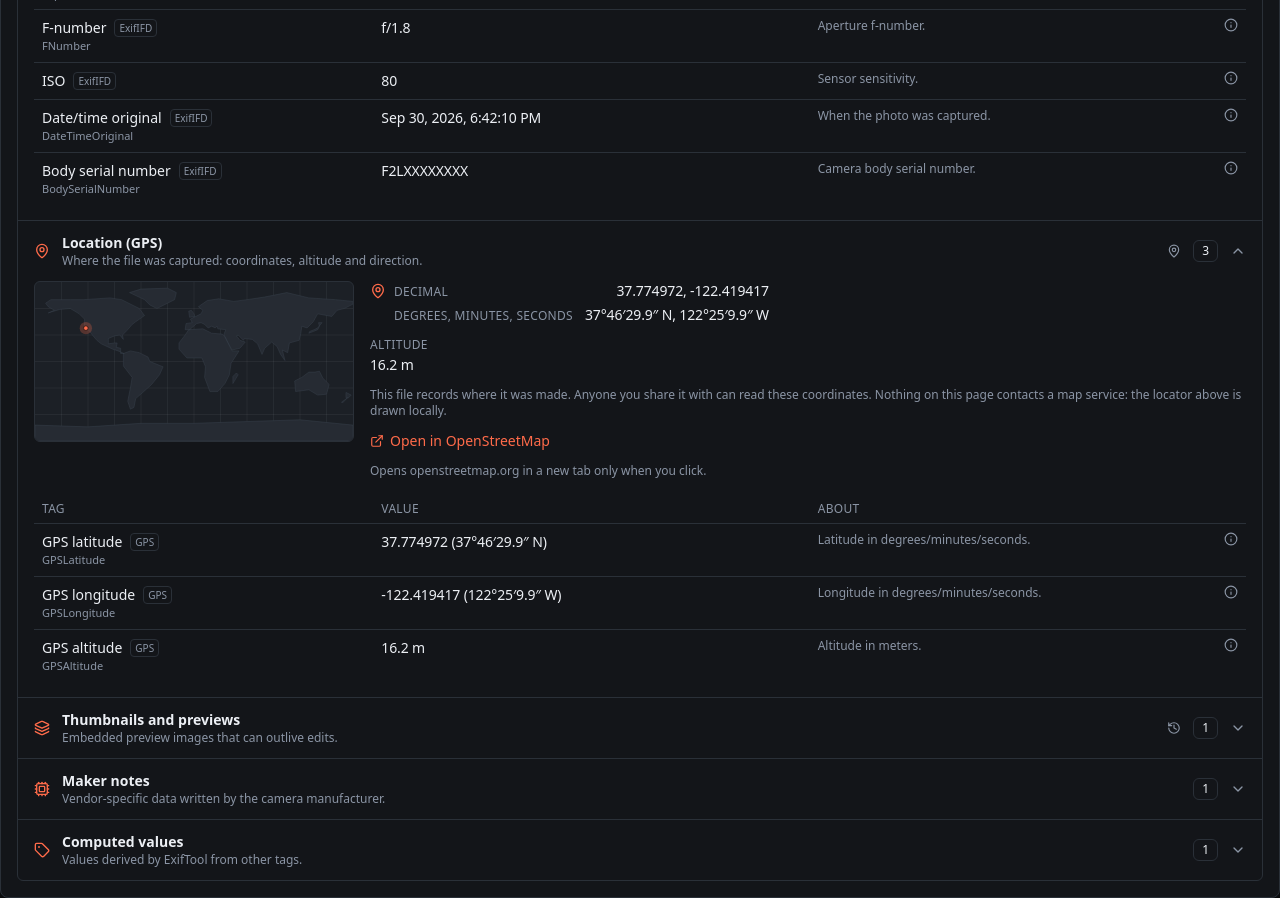
Scenario: MetadataInspector with a realistic photo › renders an unknown tag with its raw name and the undocumented fallback
(page scrolled)
Step 1. Click the button "Maker notes" → click(106, 781), box [18,759,1262,819]
(page scrolled)
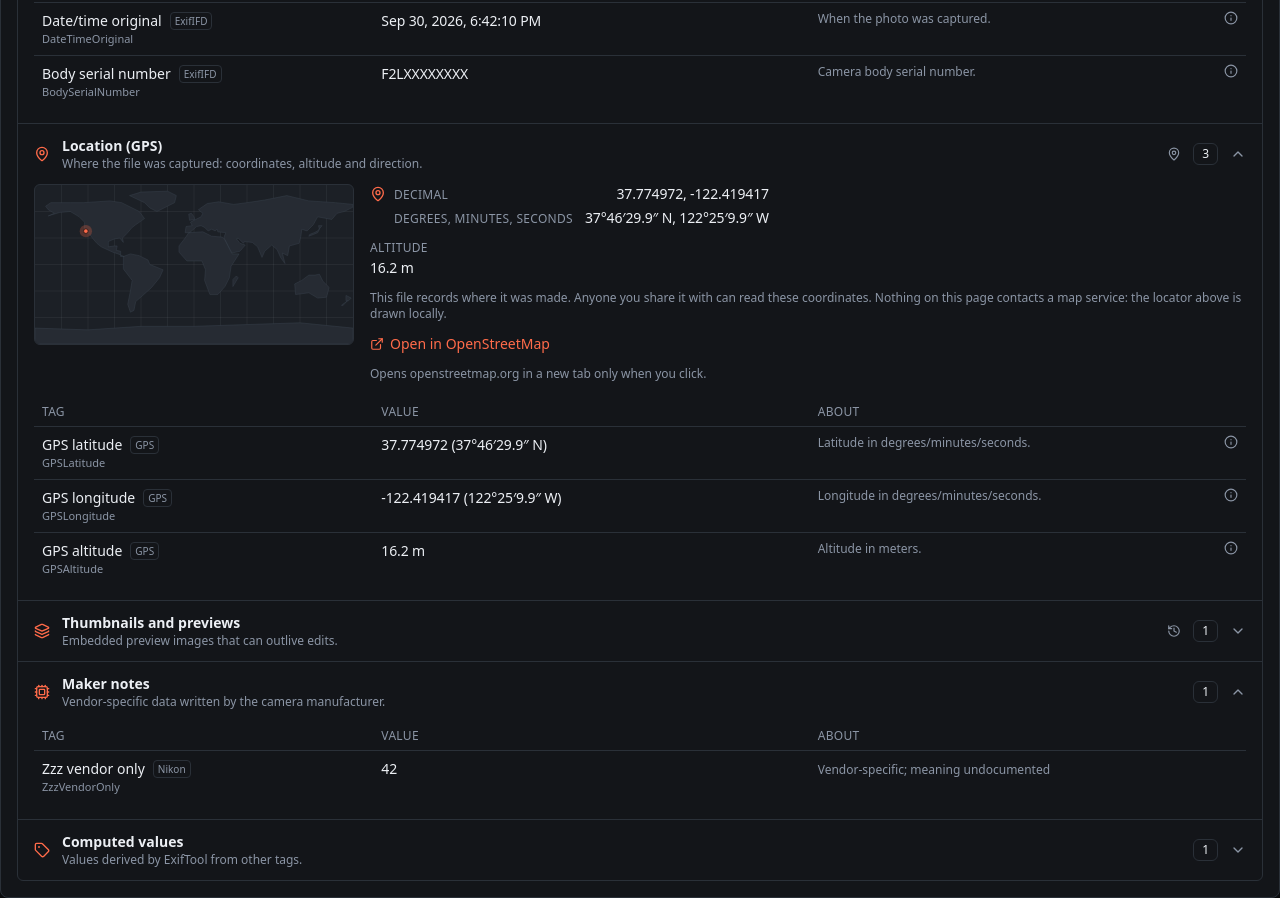
Expected: the element with test id "metadata-section-makernote" shows "ZzzVendorOnly", [42,779,120,794]
Expected: the element with test id "metadata-section-makernote" shows "Vendor-specific; meaning undocumented", [818,761,1050,778]
